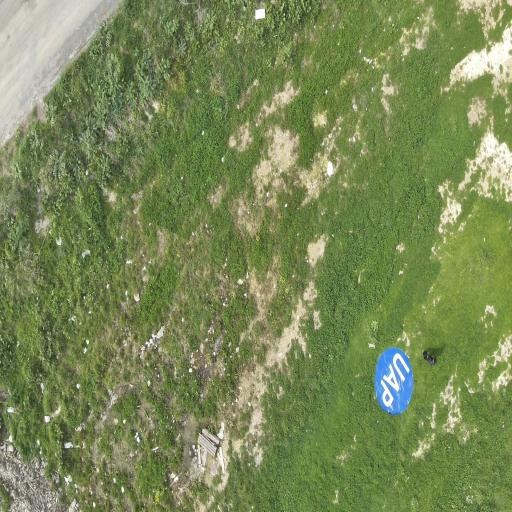UAP: (375, 348, 413, 414)
person: (423, 350, 436, 365)
